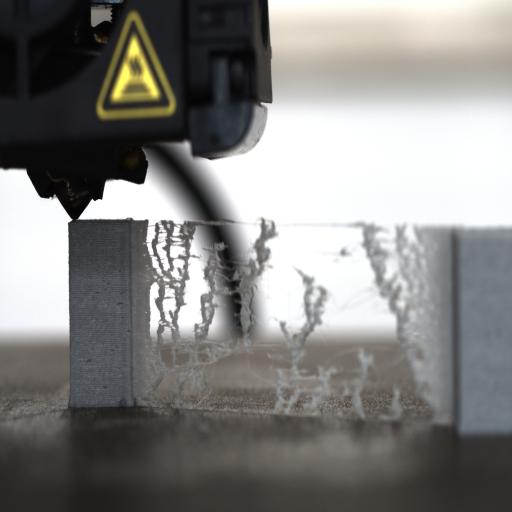stringing: (135, 210, 409, 414)
